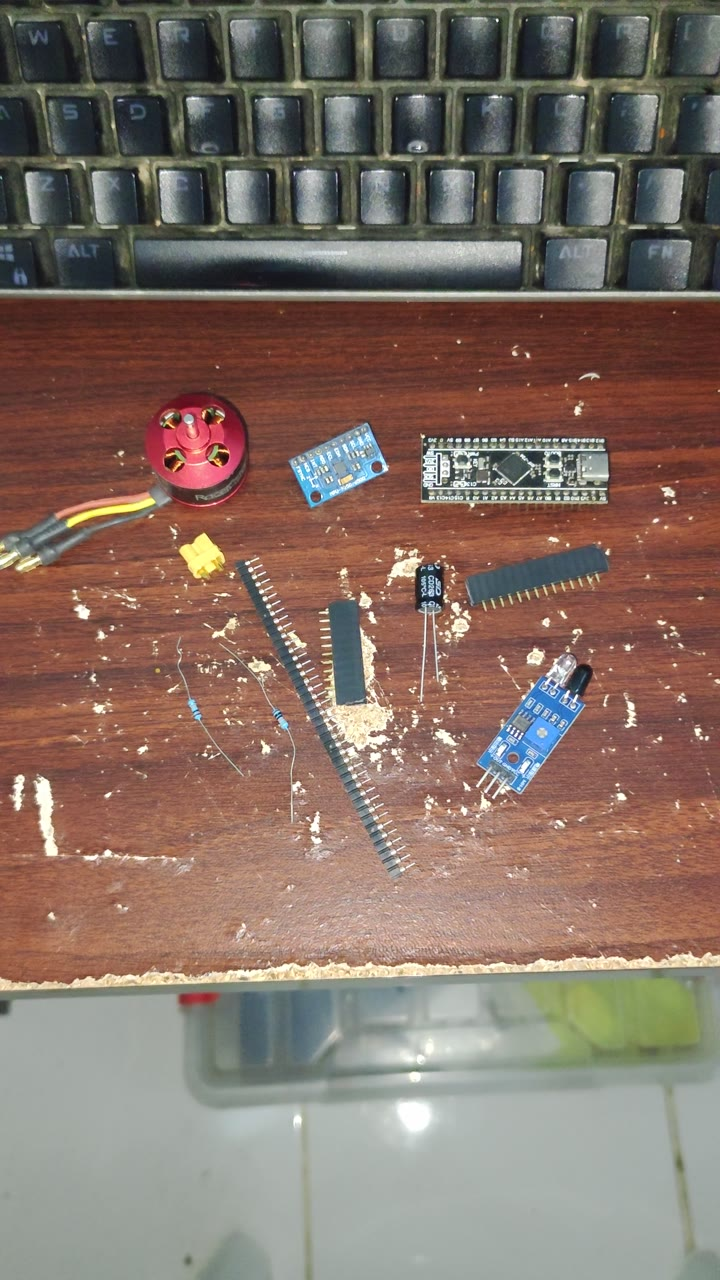bldc_motor: (47, 401, 255, 530)
elco_capacitor: (430, 568, 492, 680)
ir_sensor: (494, 649, 629, 834)
mpu6500: (295, 422, 439, 509)
pin_header: (255, 578, 464, 906), (489, 543, 642, 646), (341, 597, 419, 721)
resistor: (261, 669, 353, 822), (183, 668, 273, 792)
stm32f4: (428, 437, 616, 507)
xt30_female: (188, 531, 226, 579)
